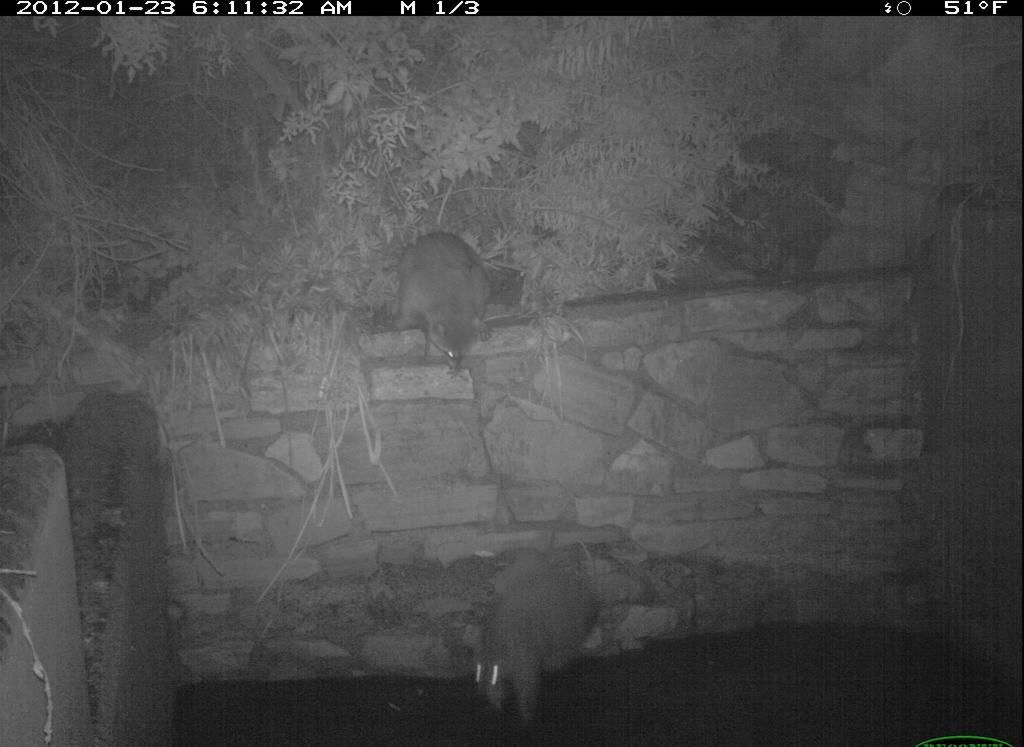raccoon: (456, 556, 612, 726), (381, 216, 504, 382)
